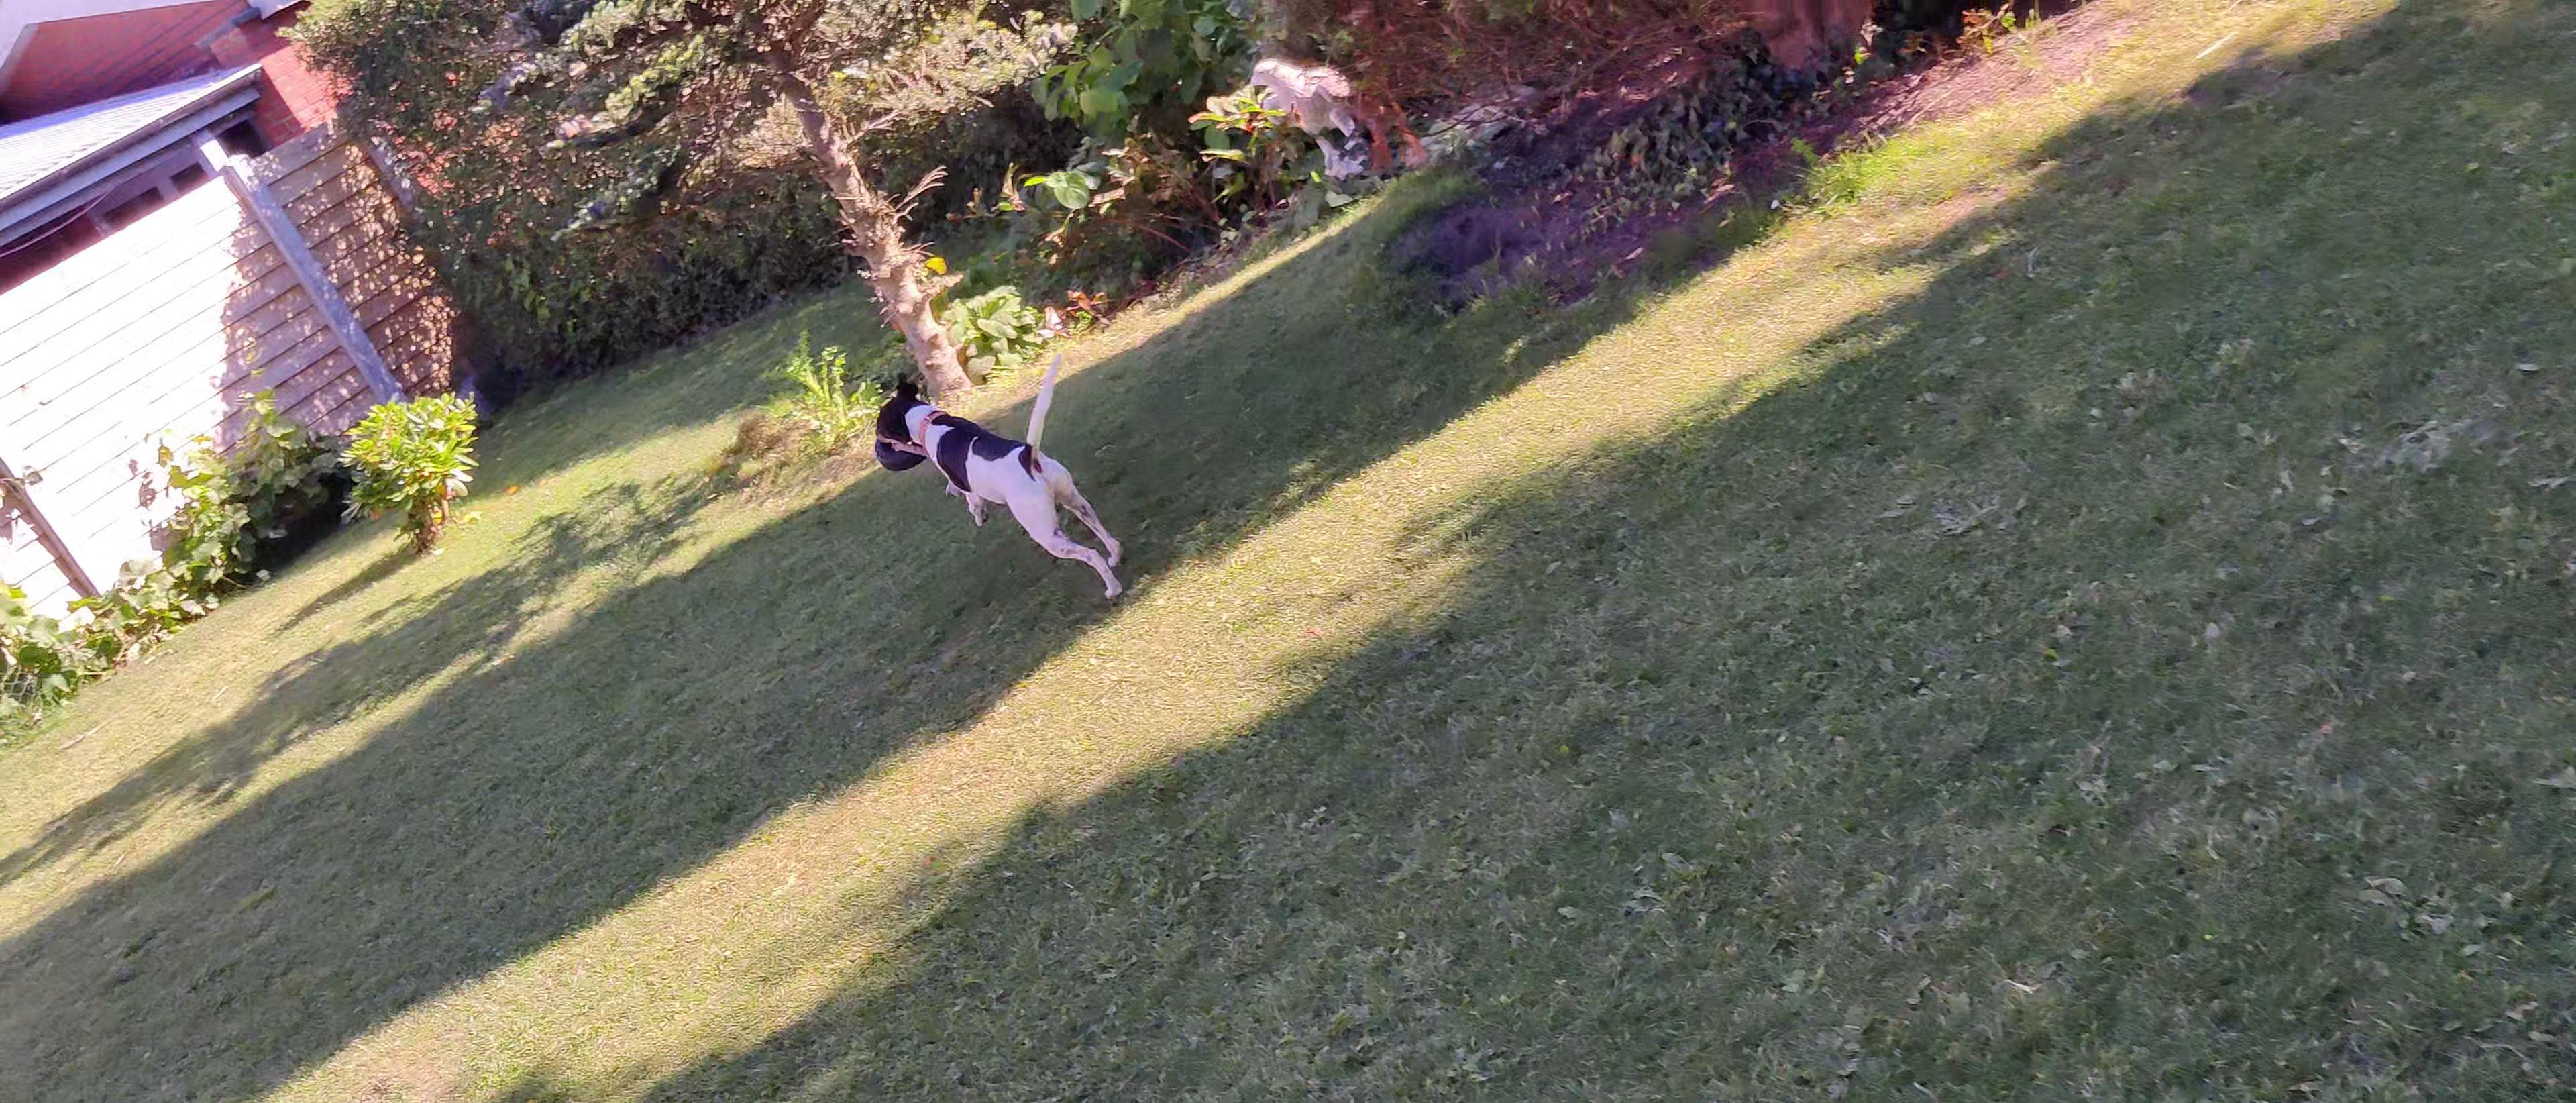Dog: (862, 350, 1127, 598)
